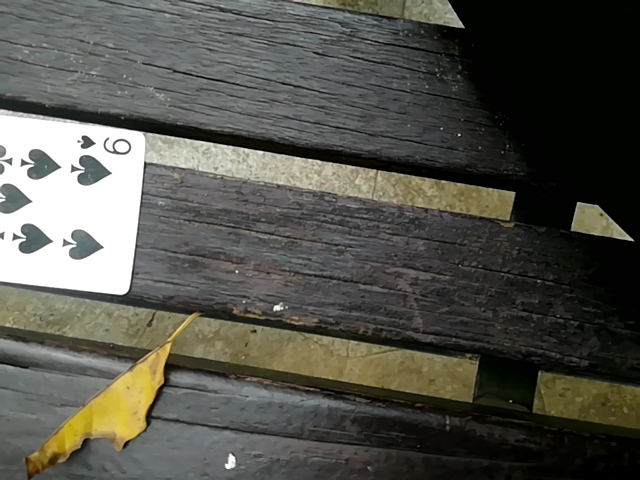ht 9: (0, 86, 148, 293)
